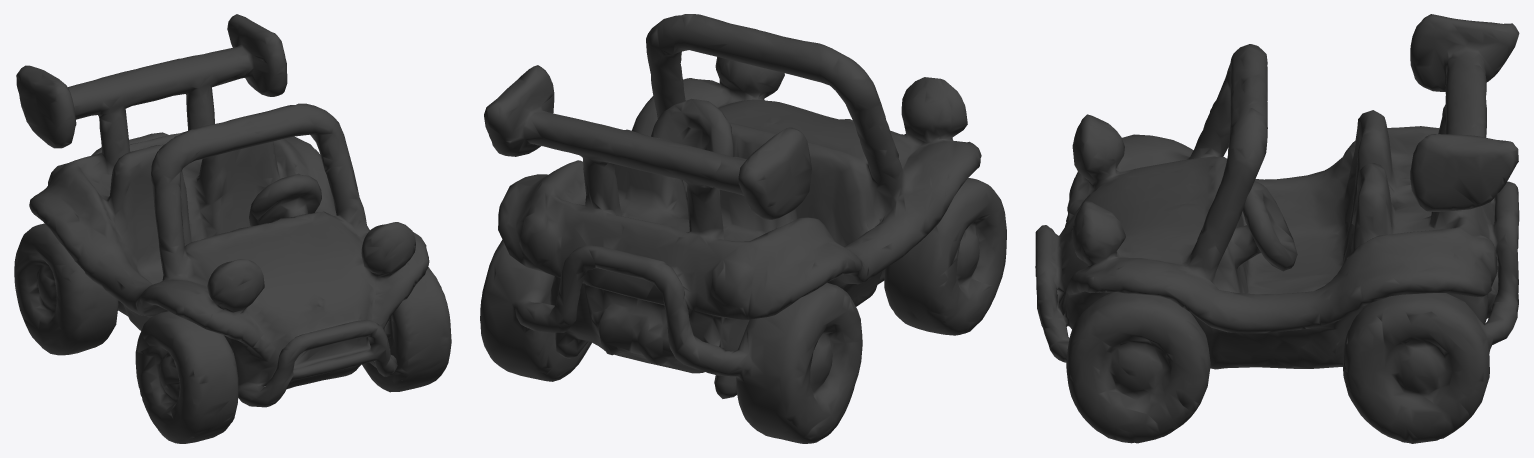
File: car_buggy.glb
3 renders of one model, left to right at view 1: azimuth 30°, elevation 25°; view 2: azimuth 150°, elevation 25°; view 3: azimuth 270°, elevation 25°, orthographic. The views are drawn at different scales.
Parts seen in each view (by area): view 1: geometry_0; view 2: geometry_0; view 3: geometry_0.
Part boxes in pixels (bbox=[...]): geometry_0: bbox=[14, 14, 451, 443]; geometry_0: bbox=[480, 14, 1006, 443]; geometry_0: bbox=[1035, 14, 1519, 443].
Bounding box in the file's own units: 0.752 × 0.6829 × 1.
Materials: 1 (1 with a texture image).
